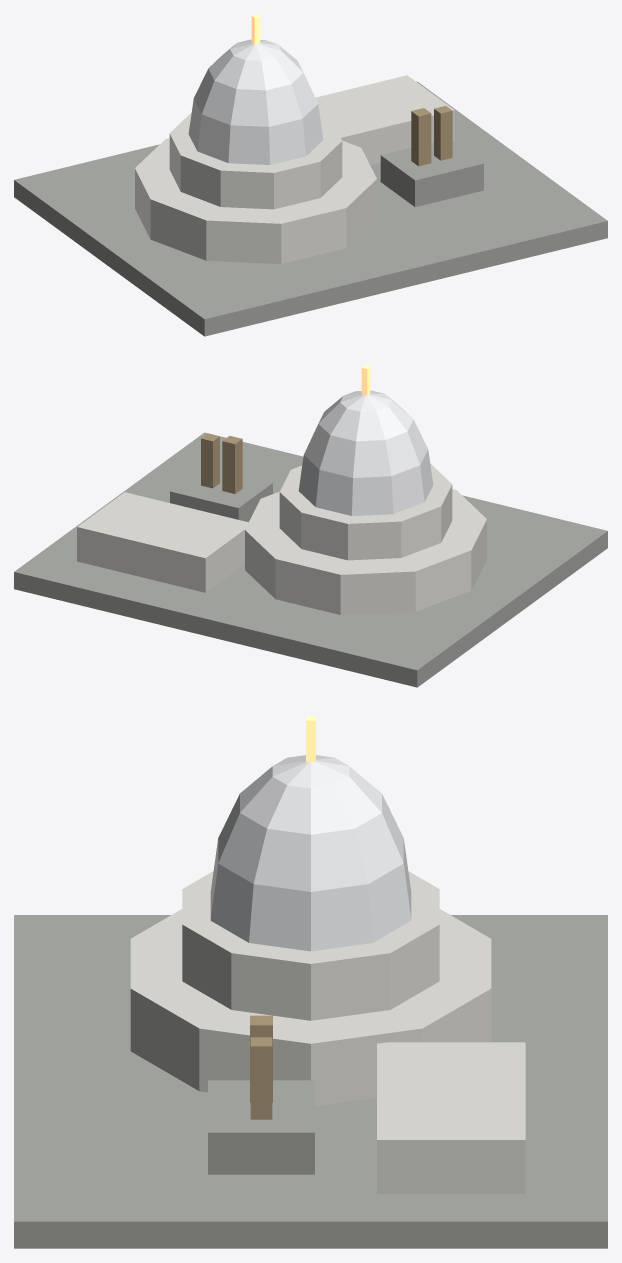
File: lm_33_langbiang_radar_peak_observatory.glb
3 renders of one model, top to bottom at view 1: azimuth 30°, elevation 25°; view 2: azimuth 150°, elevation 25°; view 3: azimuth 270°, elevation 25°, orthographic. The views are drawn at different scales.
Parts seen in each view (by area): view 1: lm_33_langbiang_radar_peak_observatory; view 2: lm_33_langbiang_radar_peak_observatory; view 3: lm_33_langbiang_radar_peak_observatory.
Part boxes in pixels (x1,y1,x2,y2): lm_33_langbiang_radar_peak_observatory: (14,14,607,336); lm_33_langbiang_radar_peak_observatory: (14,365,607,687); lm_33_langbiang_radar_peak_observatory: (14,716,607,1248).
Bounding box in the file's own units: 44 × 22.4 × 36.
